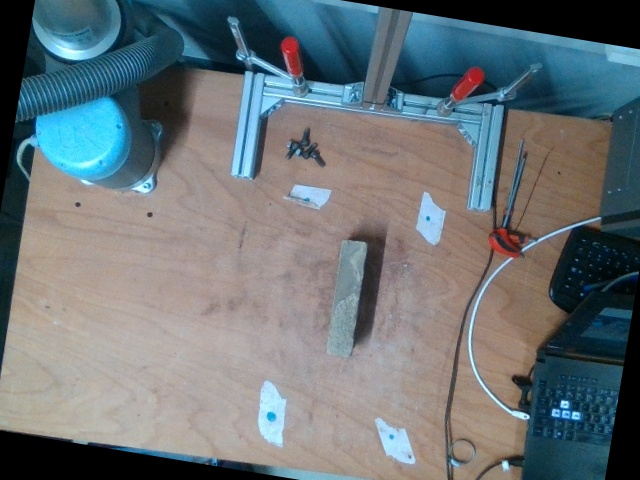brick-side: (327, 241, 366, 356)
